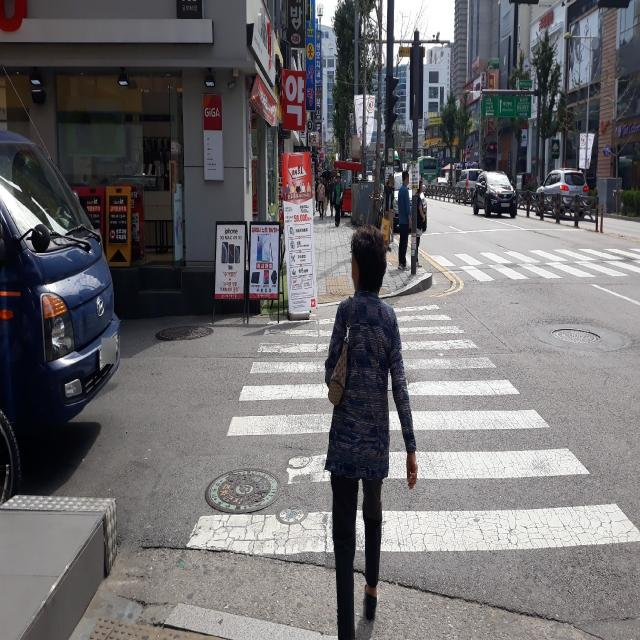횡단보도: (184, 300, 640, 559), (434, 250, 640, 278)
